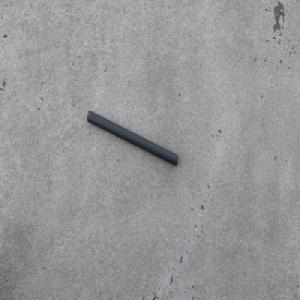LuggagePart: (86, 108, 179, 167)
